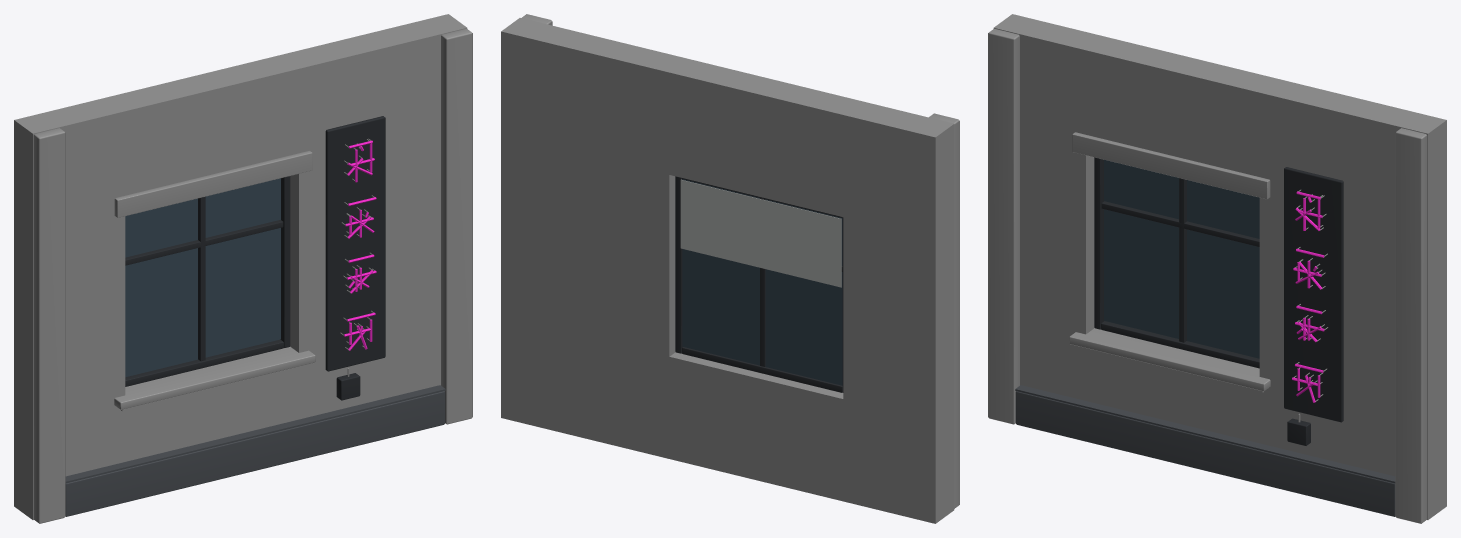
Rendered from Building_Facade_Plaster_Window_Neon.fbx.
3 renders of one model, left to right at view 1: azimuth 30°, elevation 25°; view 2: azimuth 150°, elevation 25°; view 3: azimuth 330°, elevation 25°, orthographic.
Visible parts, largest first — view 1: Building_Facade_Plaster_Window_Neon_LOD0; view 2: Building_Facade_Plaster_Window_Neon_LOD0; view 3: Building_Facade_Plaster_Window_Neon_LOD0.
Boxes of the visible parts, <box> form: Building_Facade_Plaster_Window_Neon_LOD0: <box>14,14,472,523</box>; Building_Facade_Plaster_Window_Neon_LOD0: <box>501,14,959,523</box>; Building_Facade_Plaster_Window_Neon_LOD0: <box>988,14,1446,523</box>.
Size of what is drawn, in the model's own units: 4 by 3.4 by 0.42.
